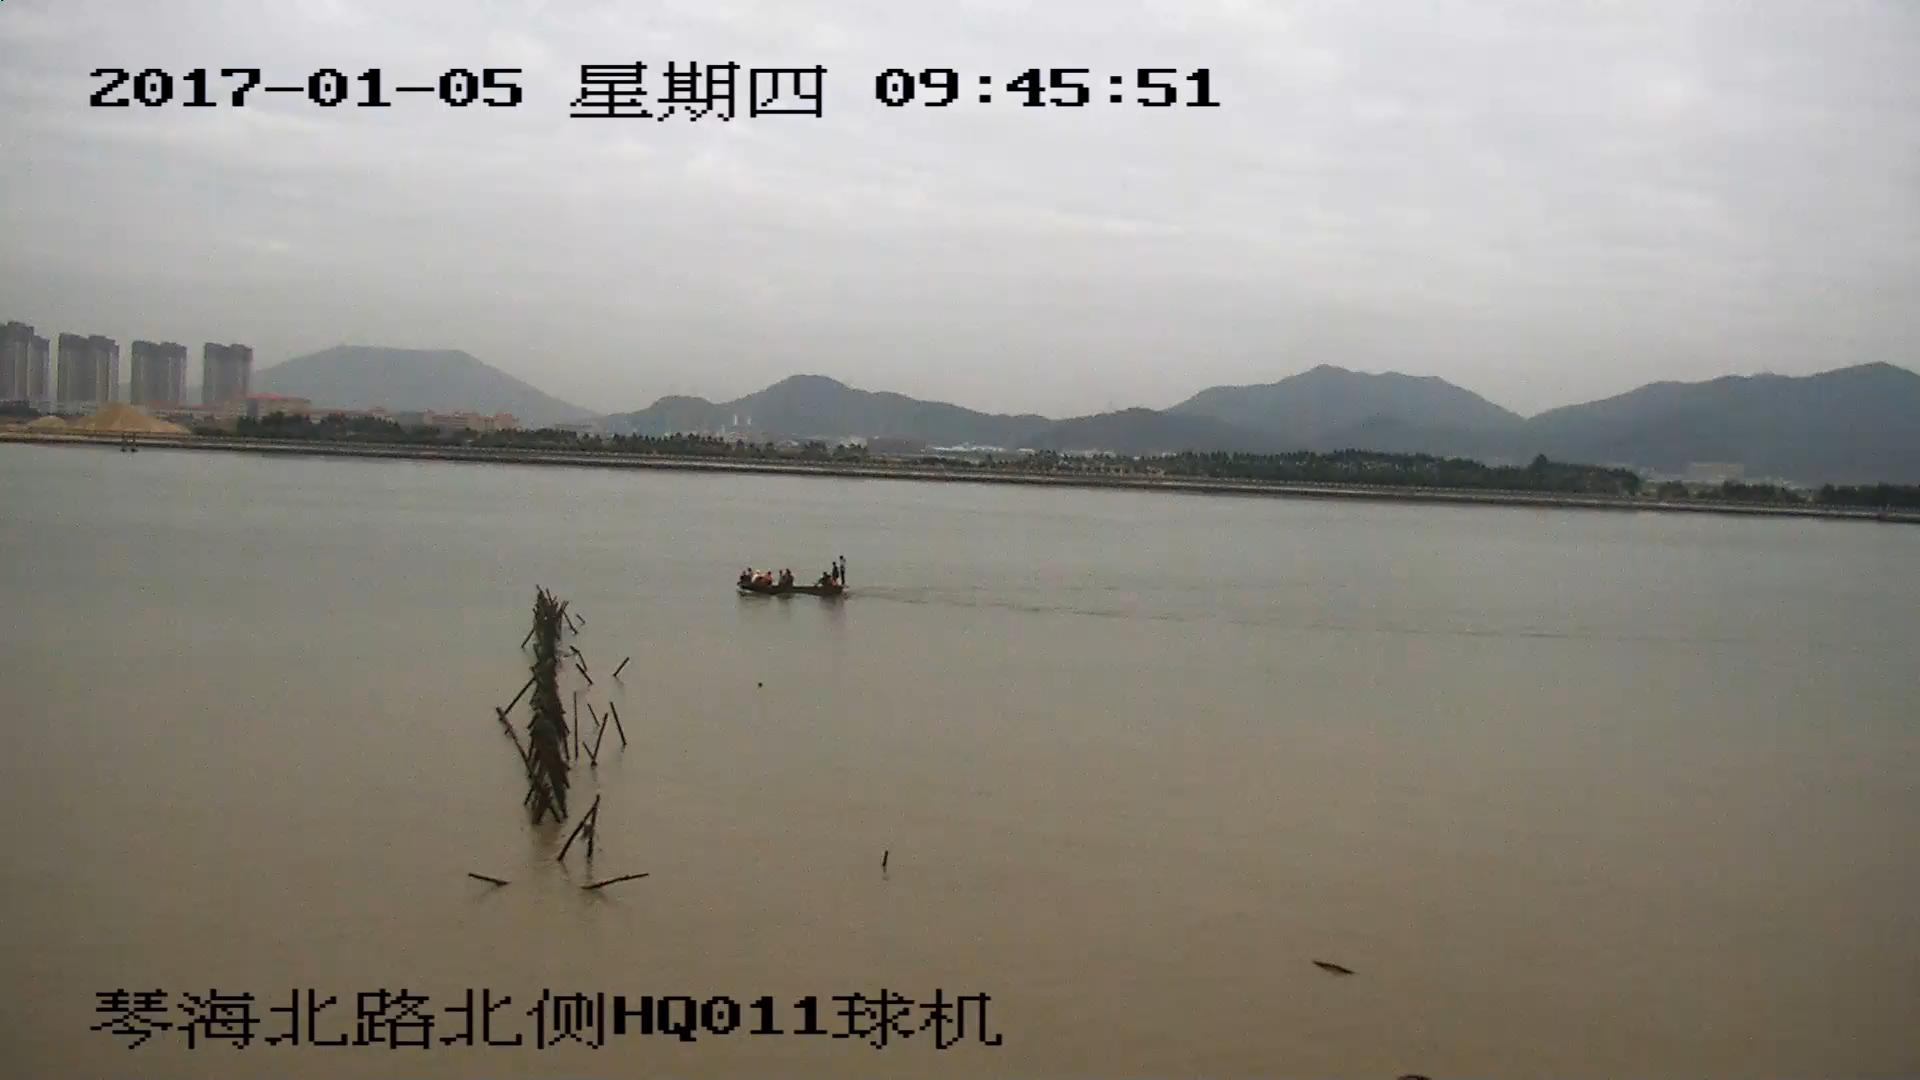fishing boat: (737, 553, 848, 594)
